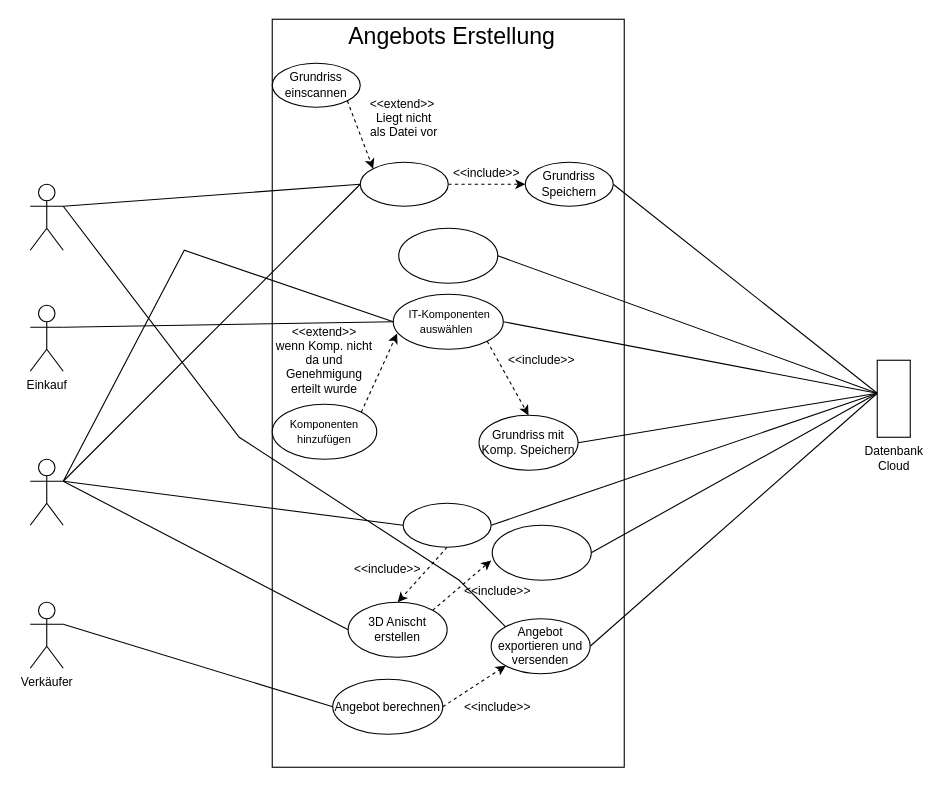
Image size: 942x787. Some labels were removed from this diagram. Each missing label, with the centre of its shape:
Ansicht exportieren: point (541, 552)
Bearbeiter: point (46, 491)
Grundriss auswählen: point (446, 524)
Grundriss importieren: point (403, 183)
IT-Komponente der Datenbank hinzufügen: point (448, 255)
Kunde: point (46, 216)
